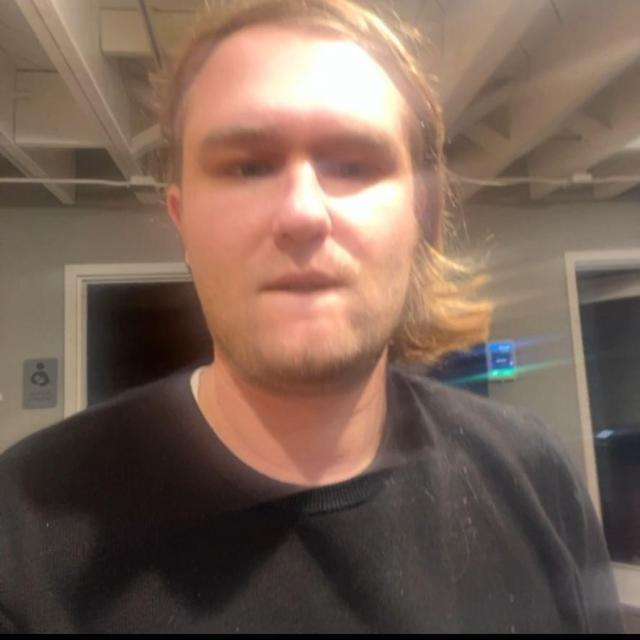no hat: (154, 0, 492, 465)
